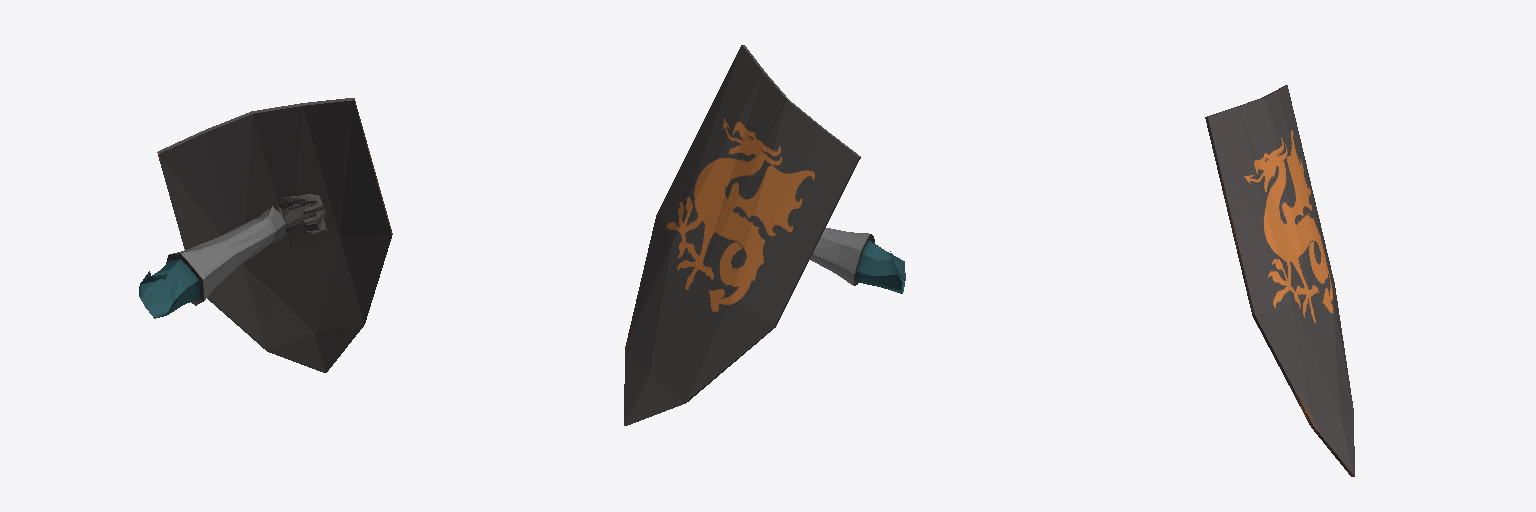
3 renders of one model, left to right at view 1: azimuth 30°, elevation 25°; view 2: azimuth 150°, elevation 25°; view 3: azimuth 270°, elevation 25°, orthographic.
Parts seen in each view (by area): view 1: Visor.001_Material_0.002; view 2: Visor.001_Material_0.002; view 3: Visor.001_Material_0.002.
Boxes of the visible parts, x1,y1,x2,y2 form: Visor.001_Material_0.002: [139, 98, 392, 372]; Visor.001_Material_0.002: [624, 45, 905, 425]; Visor.001_Material_0.002: [1205, 85, 1354, 476].
Size of the model in its own units: 1.43 by 1.85 by 0.7404.
1 materials, 1 textured.